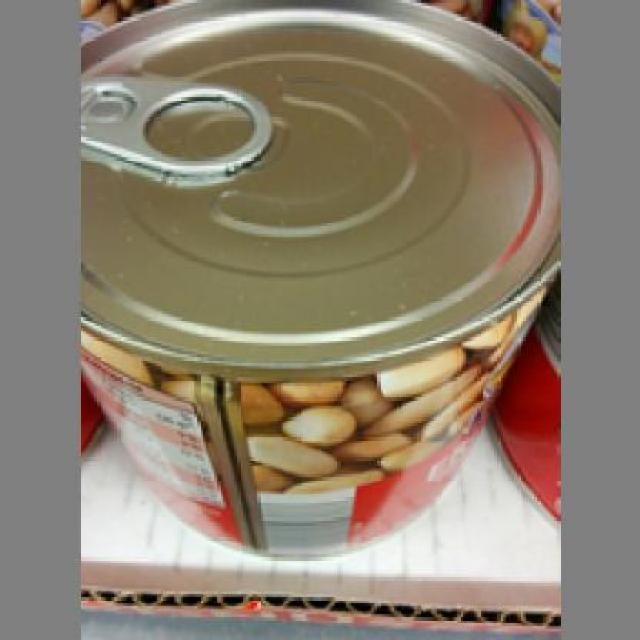Nuts: (76, 0, 558, 552)
